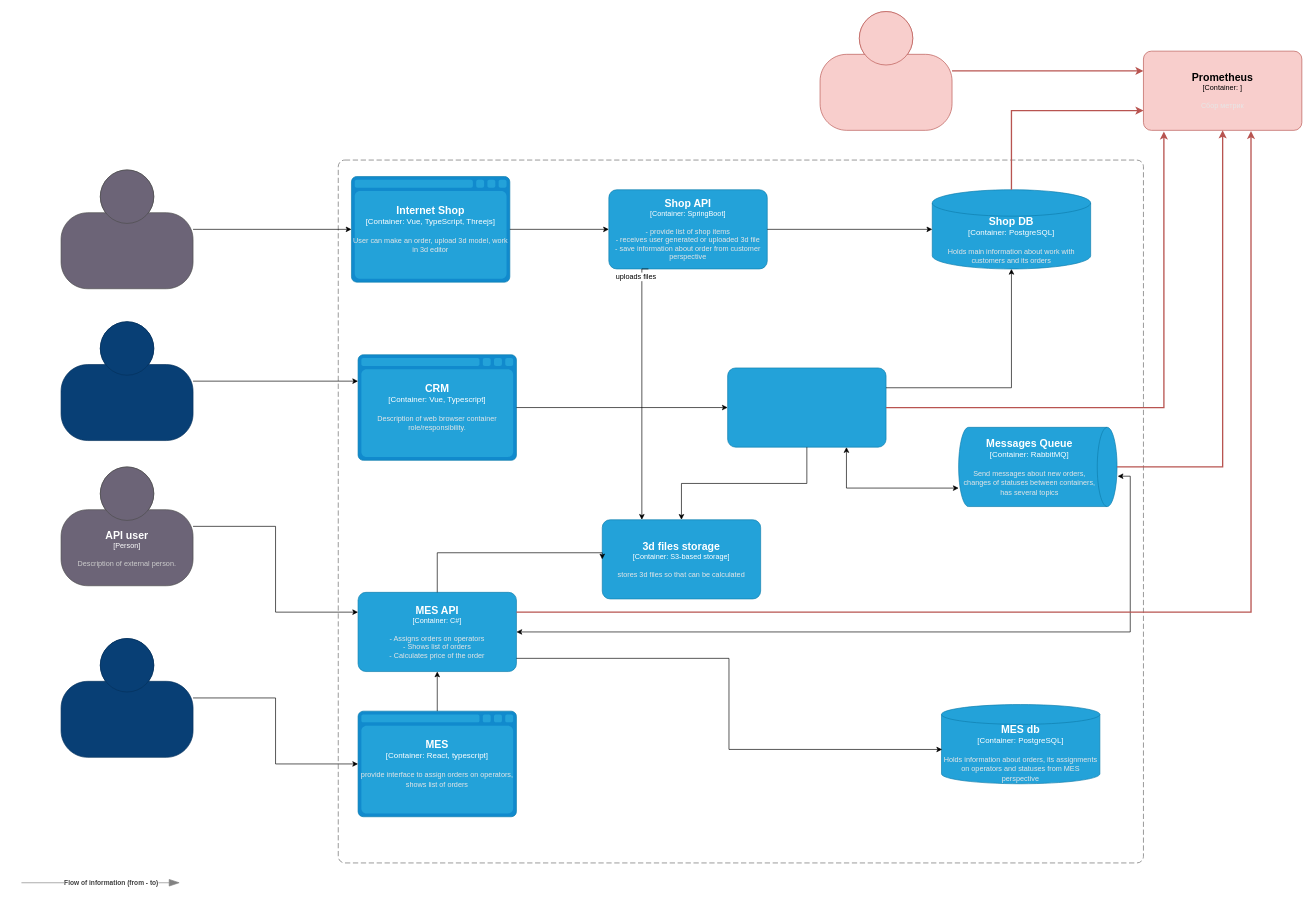
The diagram is 1313 pixels wide and 905 high, and some of its shapes have lost their labels. The shapes that lost their labels are listed below. From the top down, each one's box as (x1, y1, x2, y2) in pixels, then its label:
(819, 11, 952, 130): Admin [Person] Анализ метрик
(60, 169, 193, 289): Customer [Person] Description of external person.
(60, 321, 193, 441): Seller [Person] Operates with order, confirms manufacturing for the user
(727, 367, 886, 447): CRM API [Container: SpringBoot] Description of container role/responsibility.
(338, 159, 1143, 863): Jewerly Store System [Software System]
(60, 638, 193, 757): Operator [Person] Takes order in work, manufactures jewerly
